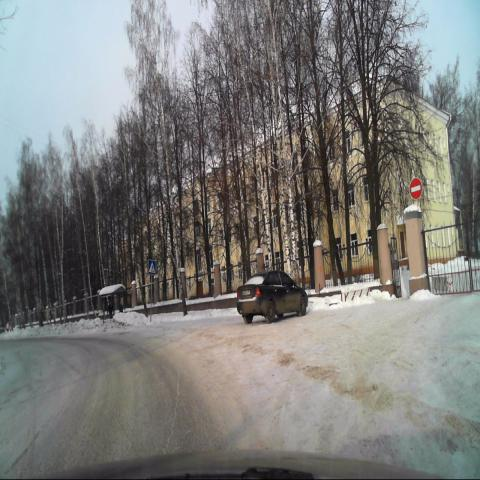3_1: (409, 178, 422, 199)
